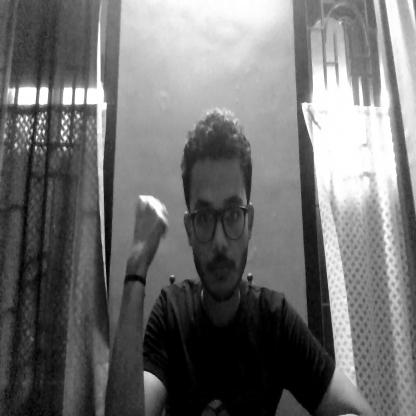Normal: (177, 107, 258, 312)
